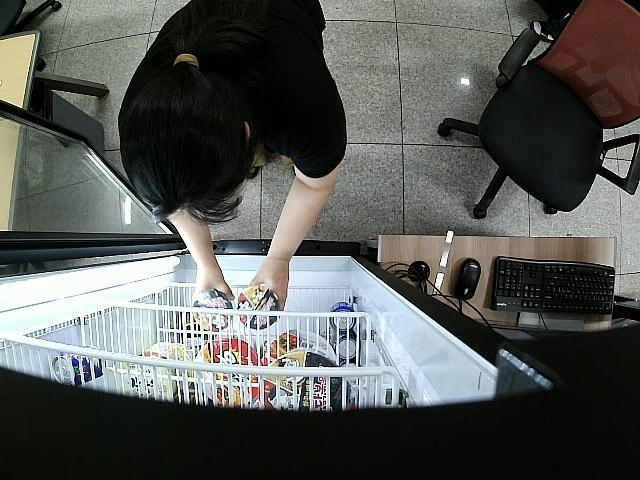08_buldak_S: (238, 284, 280, 329), (193, 290, 232, 330)
